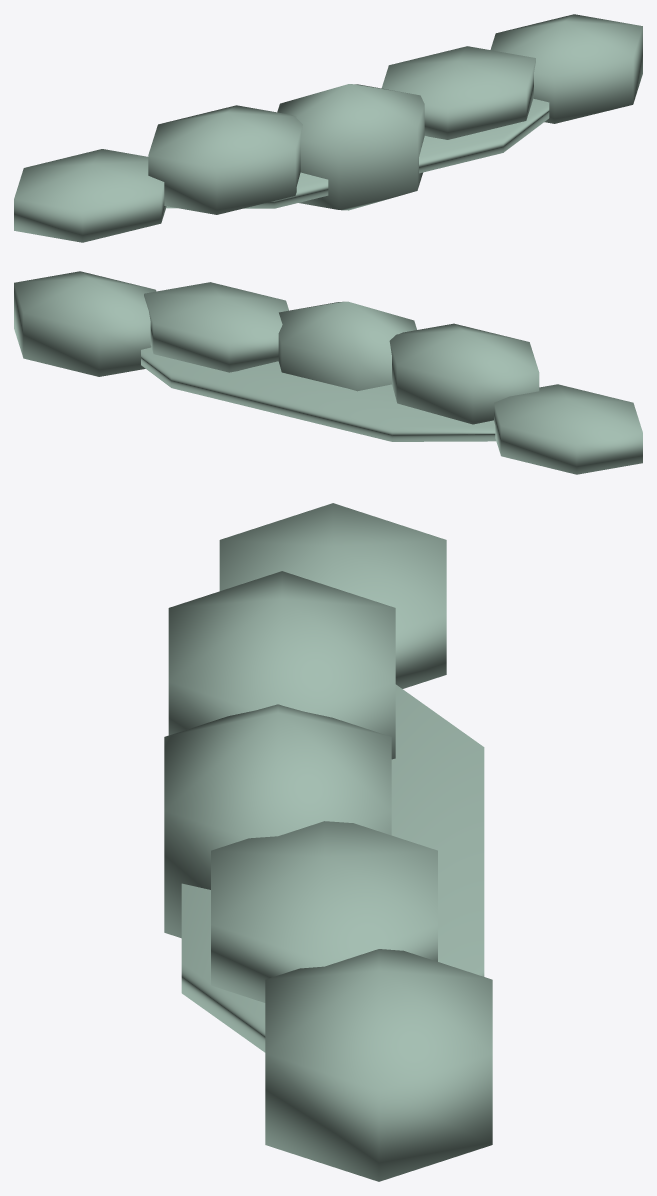
File: distant_coast_cove_low.glb
The picture shows the model from 3 angles, top to bottom: view 1: azimuth 30°, elevation 25°; view 2: azimuth 150°, elevation 25°; view 3: azimuth 270°, elevation 25°; orthographic projection. The views are drawn at different scales.
Bounding box in the file's own units: 42.39 × 8 × 9.75.
